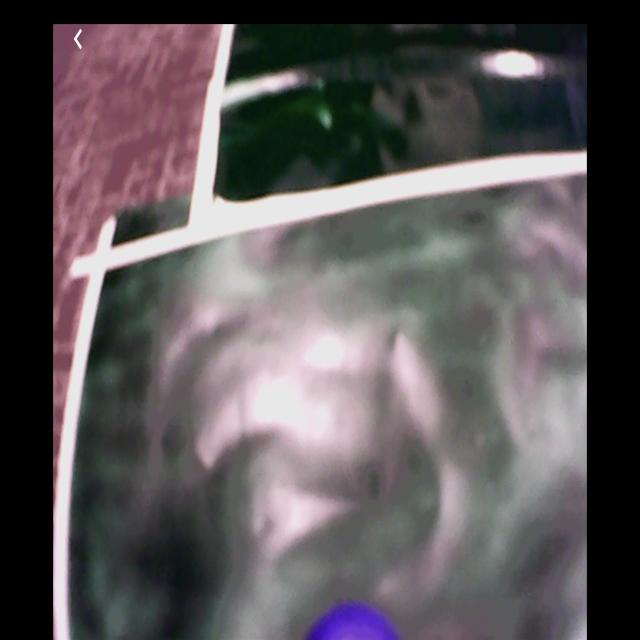ball: (304, 600, 401, 640)
